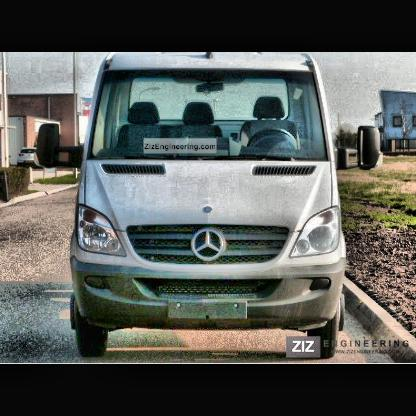Mercedes-Benz Sprinter Van 2012: (69, 54, 347, 362)
